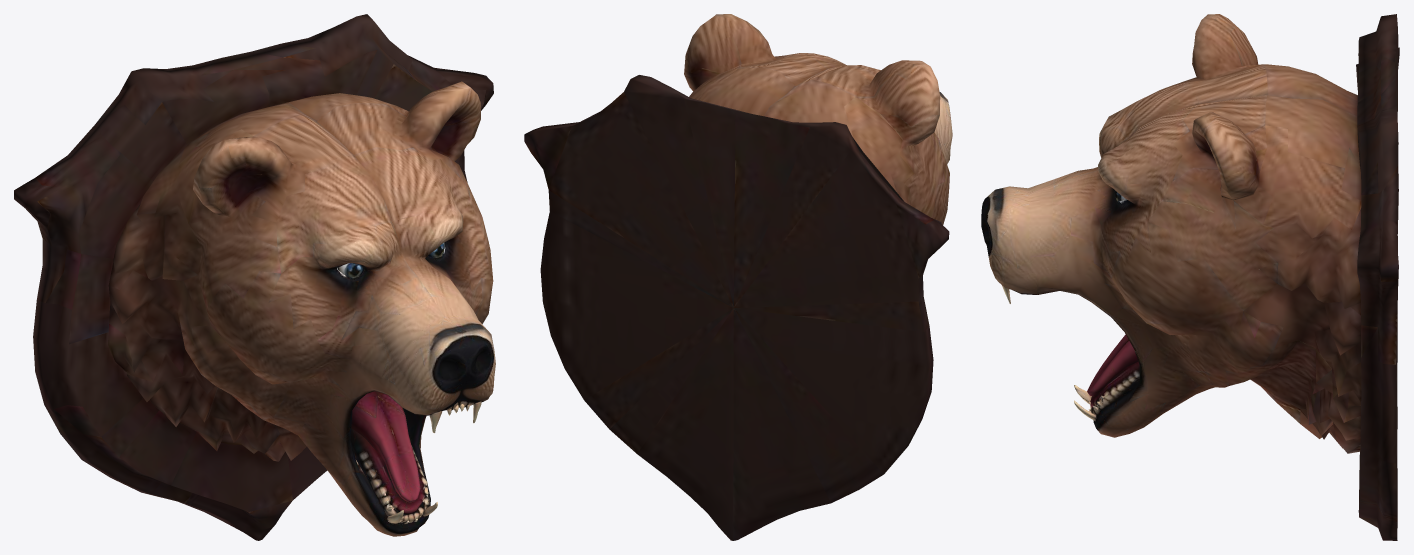
Rendered from bear_head.glb.
3 views of the same model, side by side, from view 1: azimuth 30°, elevation 25°; view 2: azimuth 150°, elevation 25°; view 3: azimuth 270°, elevation 25° (orthographic). The views are drawn at different scales.
Bounding box in the file's own units: 1 × 1 × 0.8071.
1 material, 1 textured.
